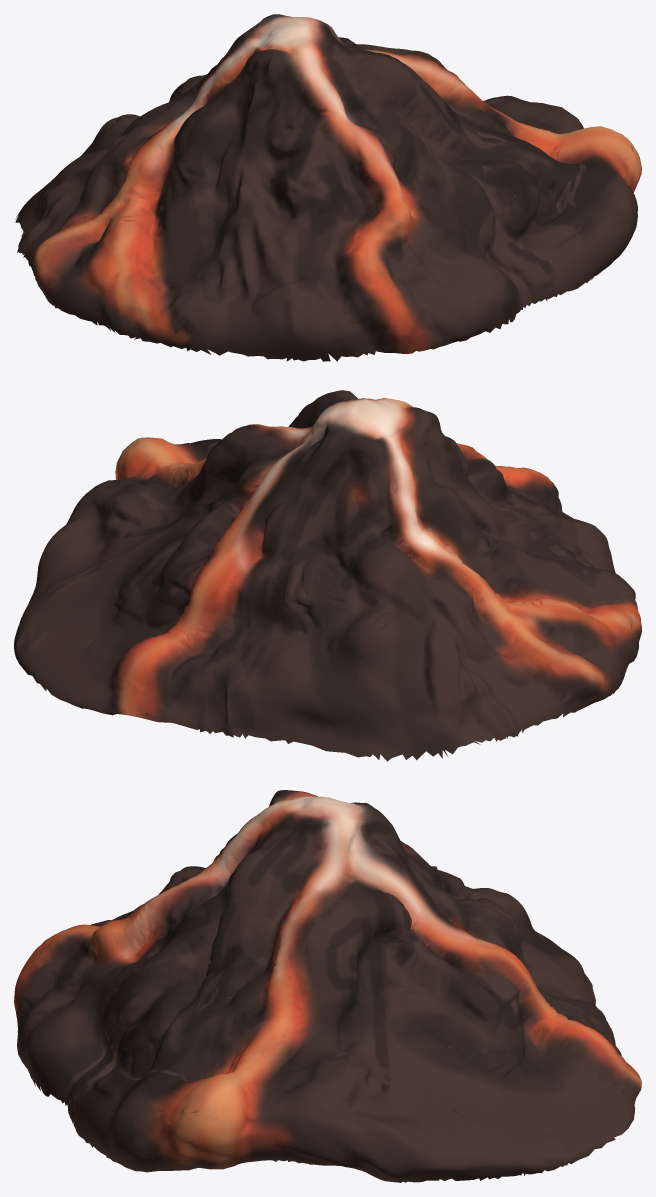
The model's file is volcano_sculpt_and_paint.glb.
3 renders of one model, top to bottom at view 1: azimuth 30°, elevation 25°; view 2: azimuth 150°, elevation 25°; view 3: azimuth 270°, elevation 25°, orthographic. The views are drawn at different scales.
Parts seen in each view (by area): view 1: Object_2; view 2: Object_2; view 3: Object_2.
Part boxes in pixels (<box>): Object_2: <box>15,14,641,361</box>; Object_2: <box>14,390,641,761</box>; Object_2: <box>14,790,641,1182</box>.
Size of the model in its own units: 9.24 by 3.78 by 8.66.
Materials: 1 (1 with a texture image).
